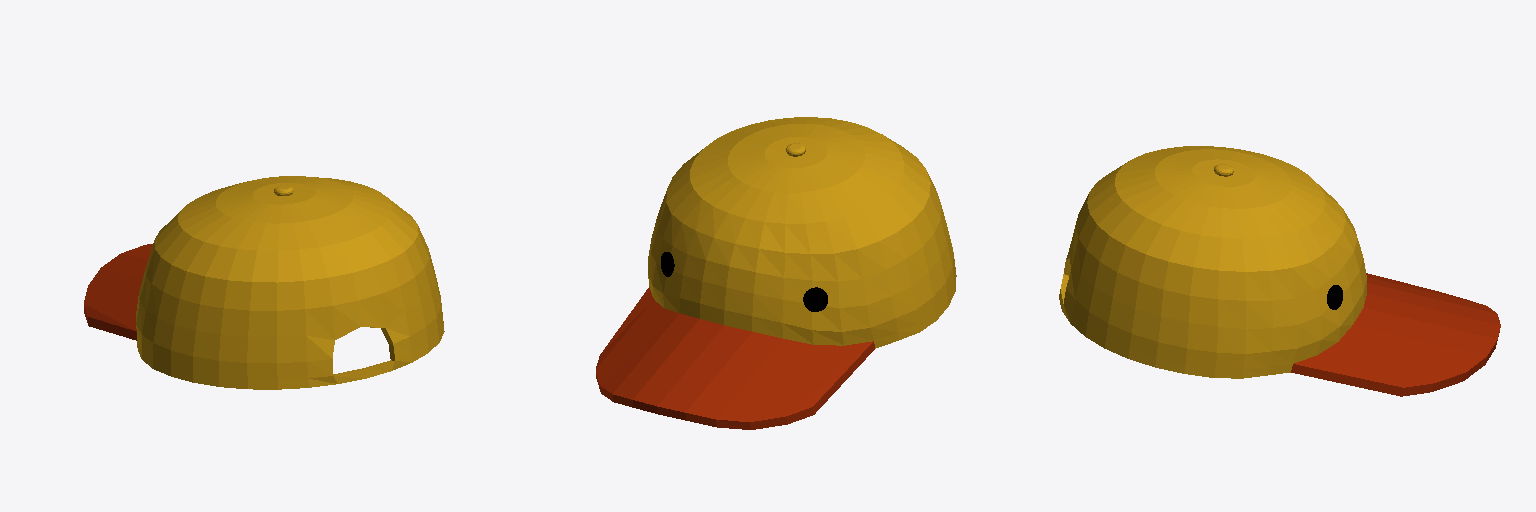
The model's file is duckhat.obj.
The picture shows the model from 3 angles: view 1: azimuth 30°, elevation 25°; view 2: azimuth 150°, elevation 25°; view 3: azimuth 270°, elevation 25°; orthographic projection.
Visible parts, largest first — view 1: 0.Cap_Mesh; view 2: 0.Cap_Mesh; view 3: 0.Cap_Mesh.
Part boxes in pixels (x1,y1,x2,y2): 0.Cap_Mesh: (84, 176, 444, 389); 0.Cap_Mesh: (596, 117, 956, 429); 0.Cap_Mesh: (1059, 146, 1500, 396).
Bounding box in the file's own units: 2.06 × 1.3 × 2.91.